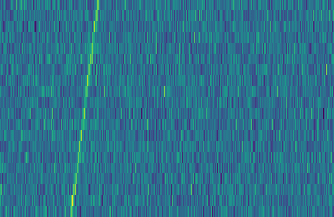signal: (64, 0, 101, 217)
